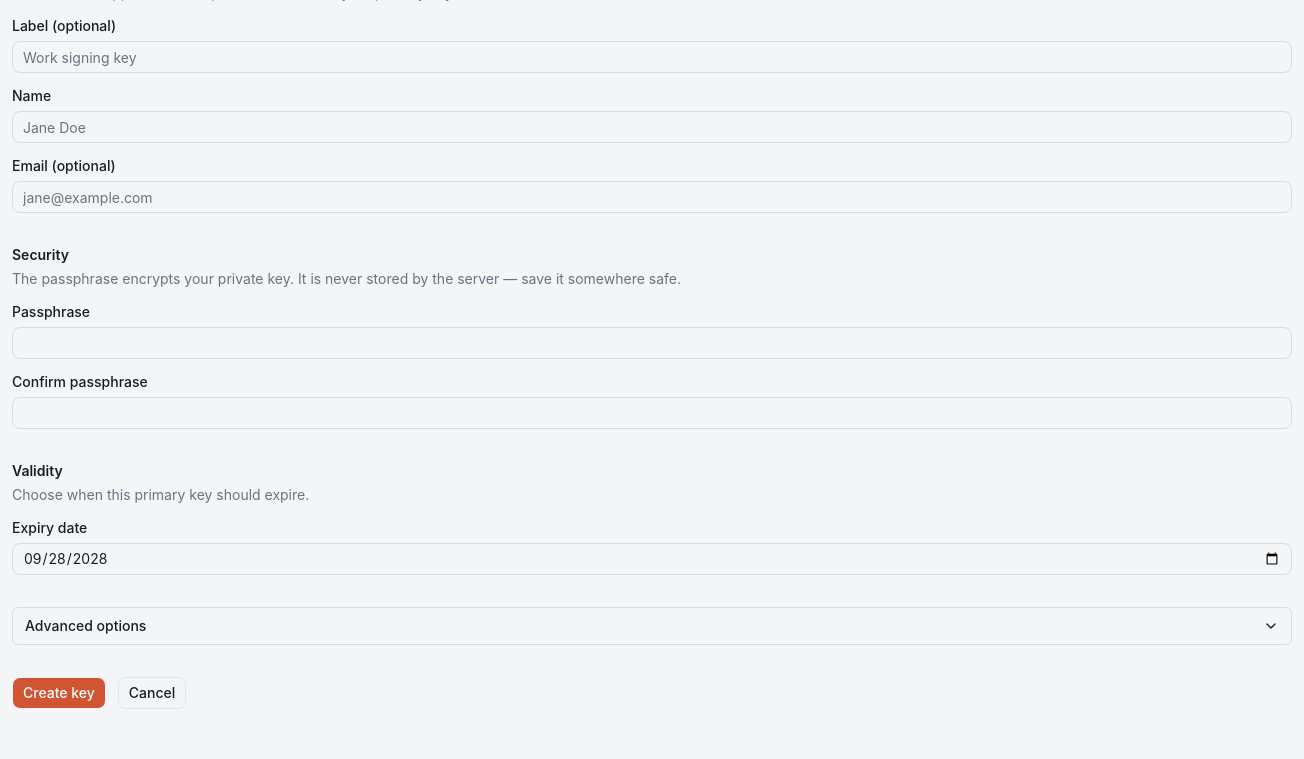
Test: CreateKeyForm › shows rsa key size picker when rsa is selected
Click the button "Advanced options": x=86, y=626 x1=12 y1=607 x2=1292 y2=645
(page scrolled)
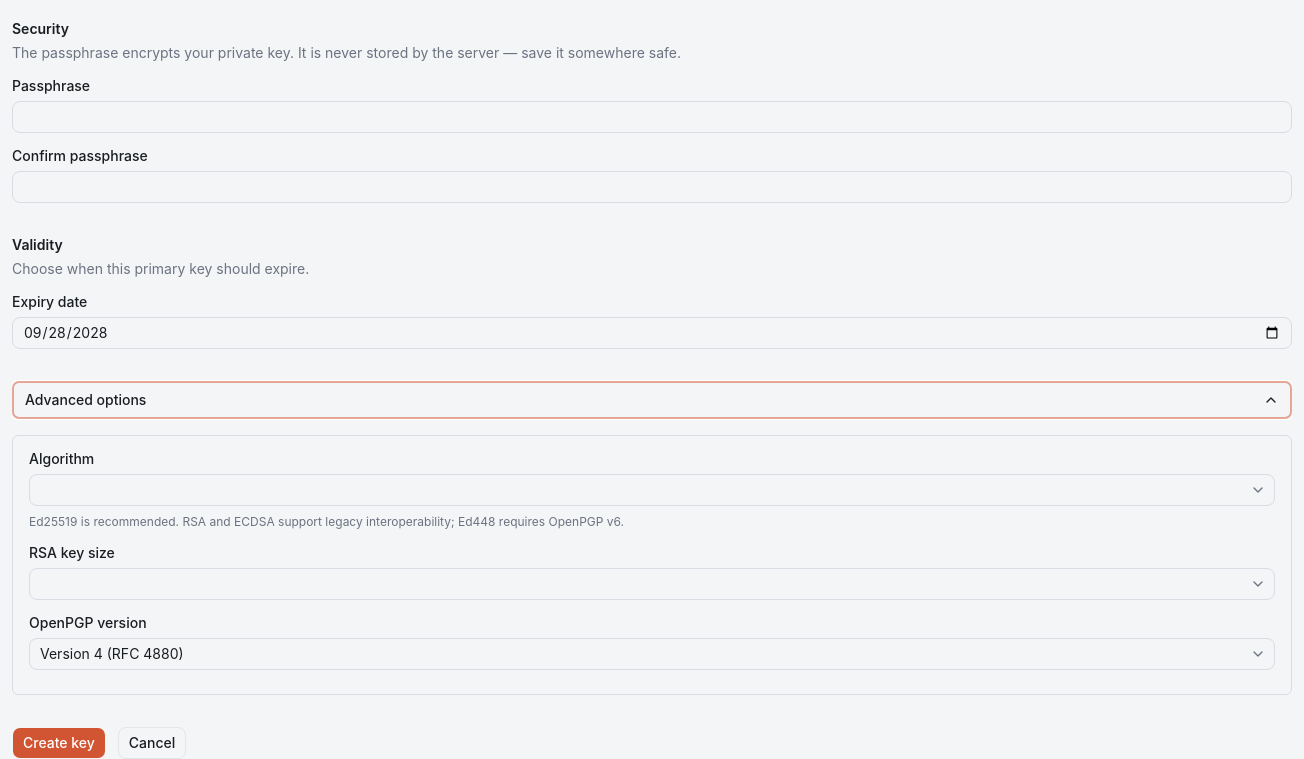
Expected: the dropdown named "rsa key size" below "RSA key size" is shown, x1=29 y1=568 x2=1275 y2=600
